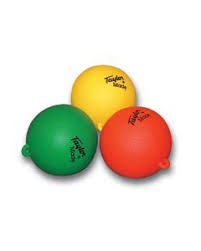buoy: (99, 107, 172, 180)
